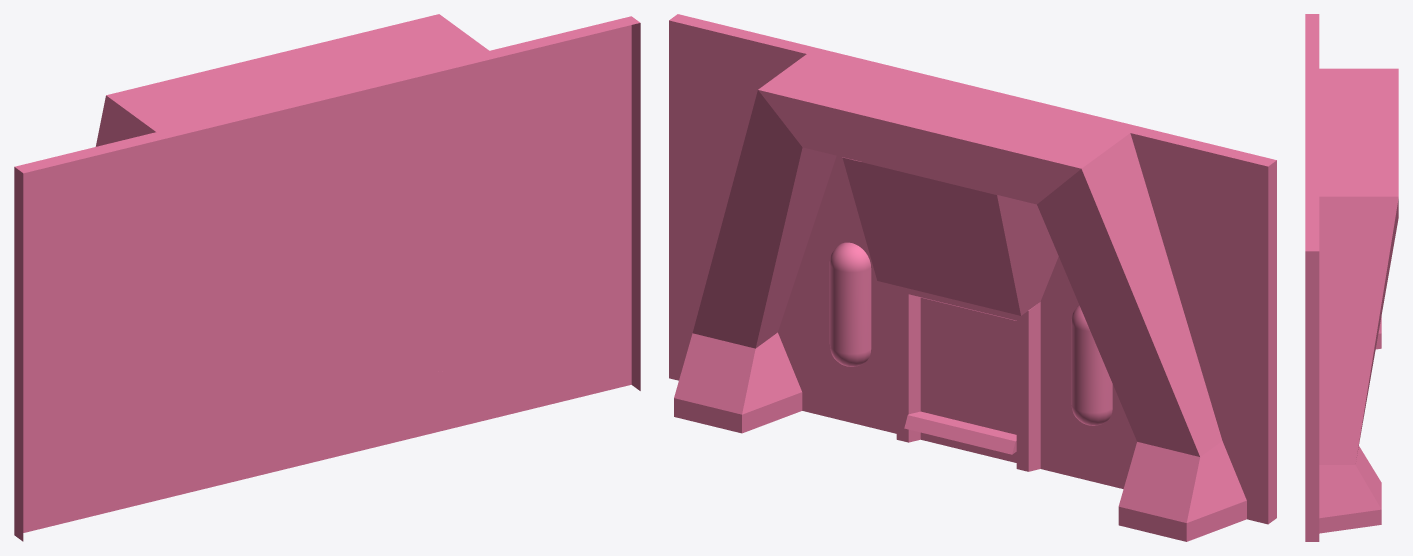
File: mo_Spawner.fbx
3 views of the same model, side by side, from view 1: azimuth 30°, elevation 25°; view 2: azimuth 150°, elevation 25°; view 3: azimuth 270°, elevation 25° (orthographic). The views are drawn at different scales.
Visible parts, largest first — view 1: ennemySpawner_geo; view 2: ennemySpawner_geo; view 3: ennemySpawner_geo.
Part boxes in pixels (x1,y1,x2,y2): ennemySpawner_geo: (14, 14, 640, 541); ennemySpawner_geo: (669, 14, 1276, 541); ennemySpawner_geo: (1305, 14, 1398, 541).
Size of the model in its own units: 7500 by 4281 by 1250.
